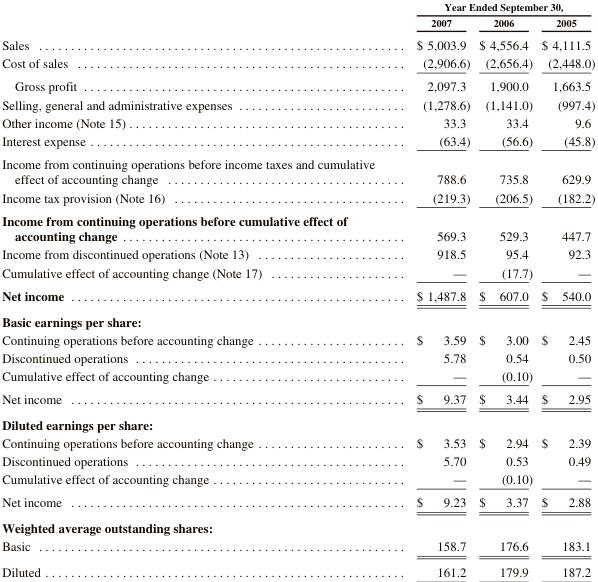table: (1, 0, 594, 579)
table column: (1, 0, 395, 579), (395, 0, 473, 579), (473, 0, 536, 579), (536, 0, 594, 579)
table column header: (1, 0, 594, 32)
table projected row header: (1, 308, 594, 330), (1, 411, 594, 433), (1, 514, 594, 536)
table row: (1, 151, 594, 188), (1, 208, 594, 244), (1, 283, 594, 308), (1, 387, 594, 411), (1, 490, 594, 514), (1, 308, 594, 330), (1, 411, 594, 433), (1, 514, 594, 536), (1, 536, 594, 558), (1, 32, 594, 53), (1, 53, 594, 74), (1, 74, 594, 95), (1, 366, 594, 387), (1, 469, 594, 490), (1, 558, 594, 579), (1, 131, 594, 151), (1, 188, 594, 208), (1, 263, 594, 283), (1, 244, 594, 263), (1, 14, 594, 32), (1, 95, 594, 113), (1, 113, 594, 131), (1, 330, 594, 348), (1, 348, 594, 366), (1, 433, 594, 451), (1, 451, 594, 469), (1, 0, 594, 14)
table spanning cell: (395, 0, 594, 14)
